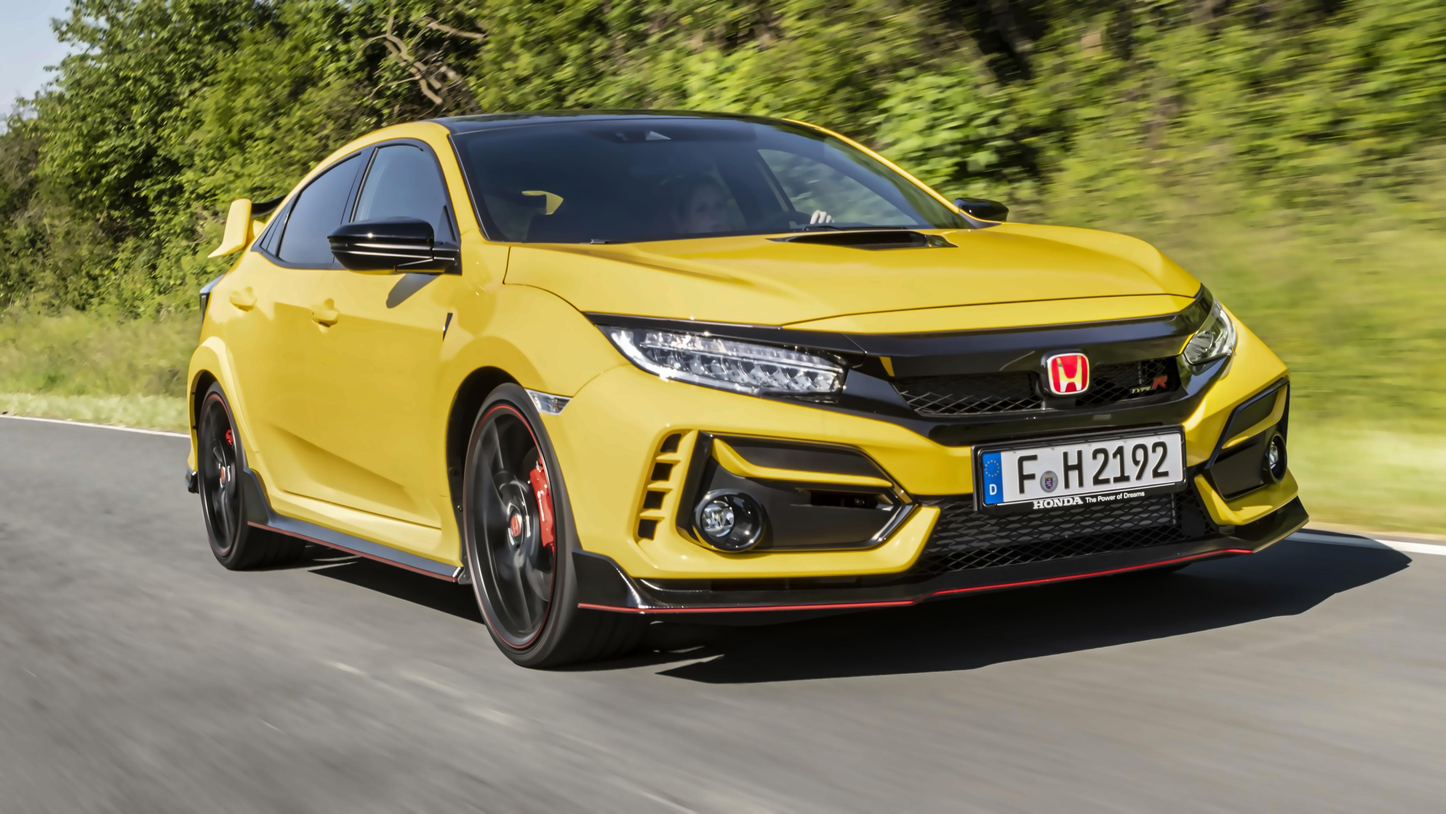Car hood: (502, 218, 1223, 330)
Driver-s door - -F-R-: (304, 88, 474, 592)
Fender - -F-R-: (412, 232, 641, 574)
Fender - -R-R-: (183, 226, 255, 459)
Headlight - -R-: (534, 321, 1321, 643), (589, 309, 855, 403)
Passenger-s door - -R-R-: (221, 113, 375, 565)
Side bumper - -R-: (247, 469, 481, 588)
Side mirror - -R-: (327, 213, 468, 281)
